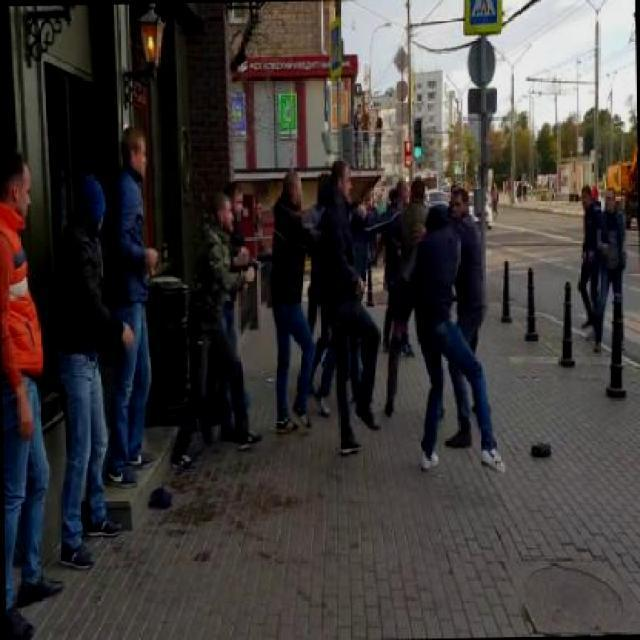non-fight: (0, 142, 60, 638), (57, 170, 123, 570), (166, 189, 249, 468), (317, 159, 380, 455), (264, 163, 307, 437)
